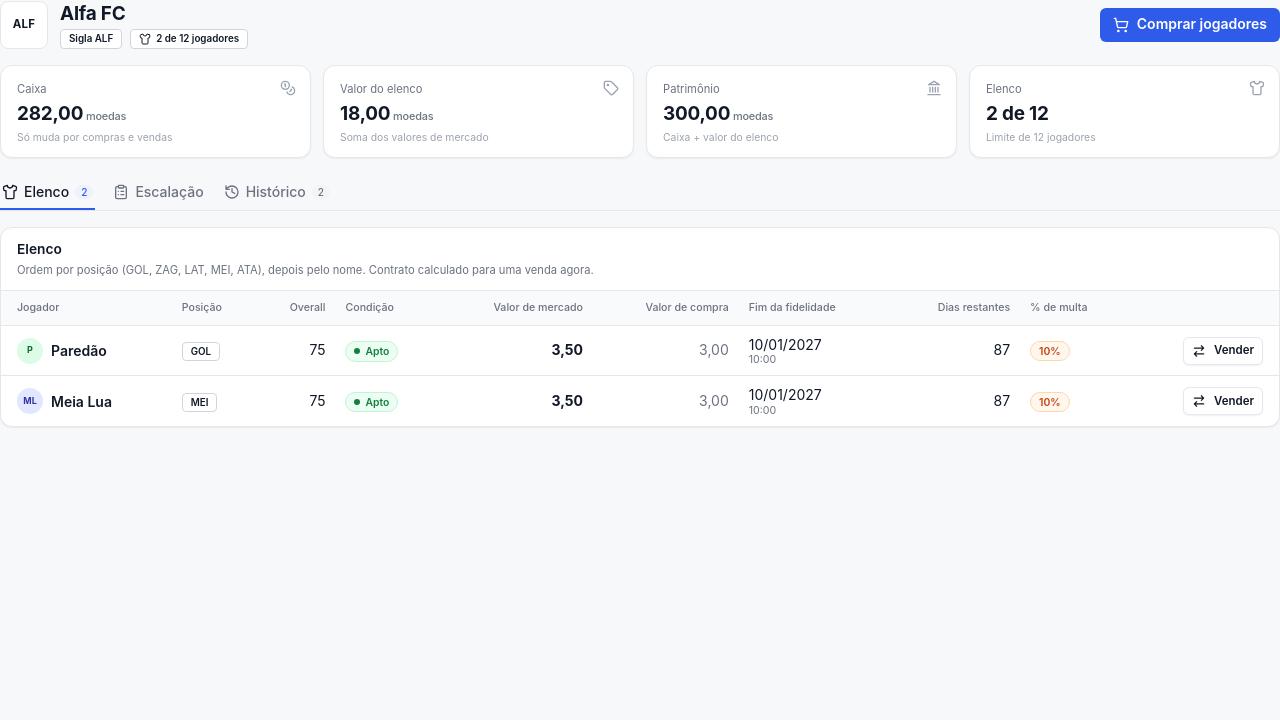
Test case: ClubPage squad › warns when the player is a starter and shows a sale without penalty as ENCERRADO
The width and height of the screenshot is (1280, 720).
Step 1. Click the button with aria-label "Vender Meia Lua" → (1223, 401), box [1183,387,1263,415]
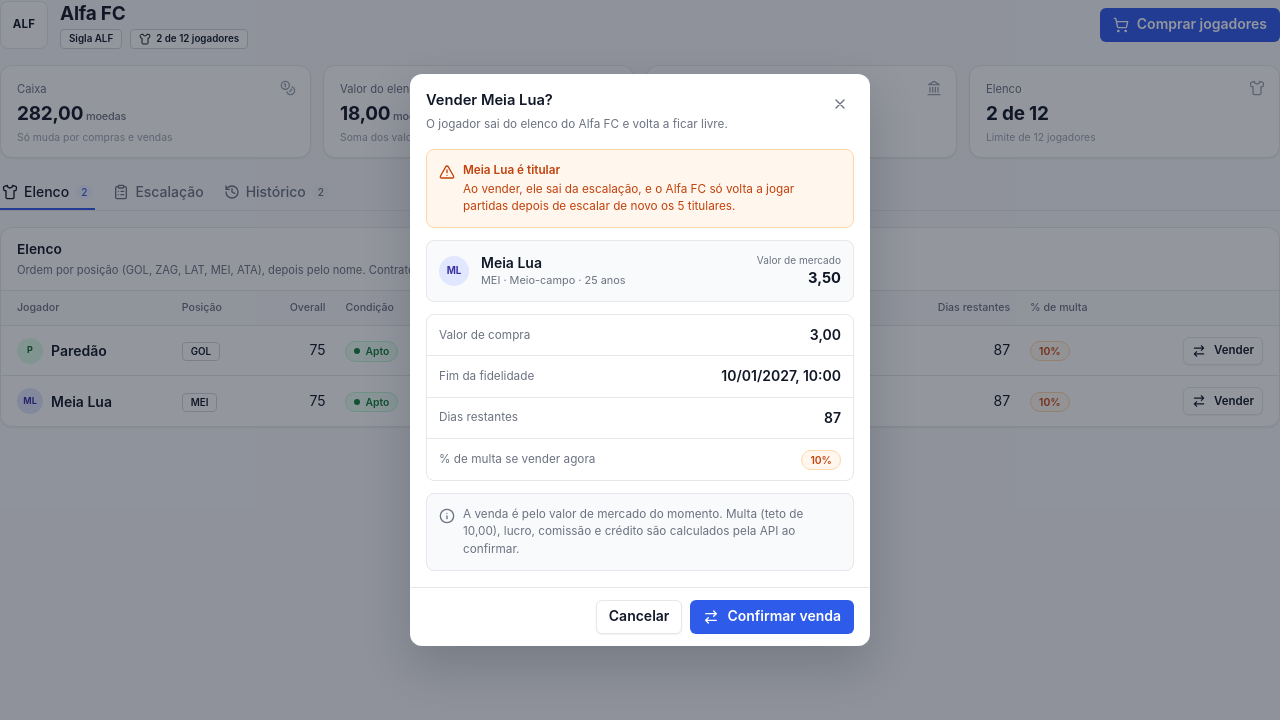
Step 2. Click the button "Confirmar venda" → (772, 617), box [690,600,854,634]
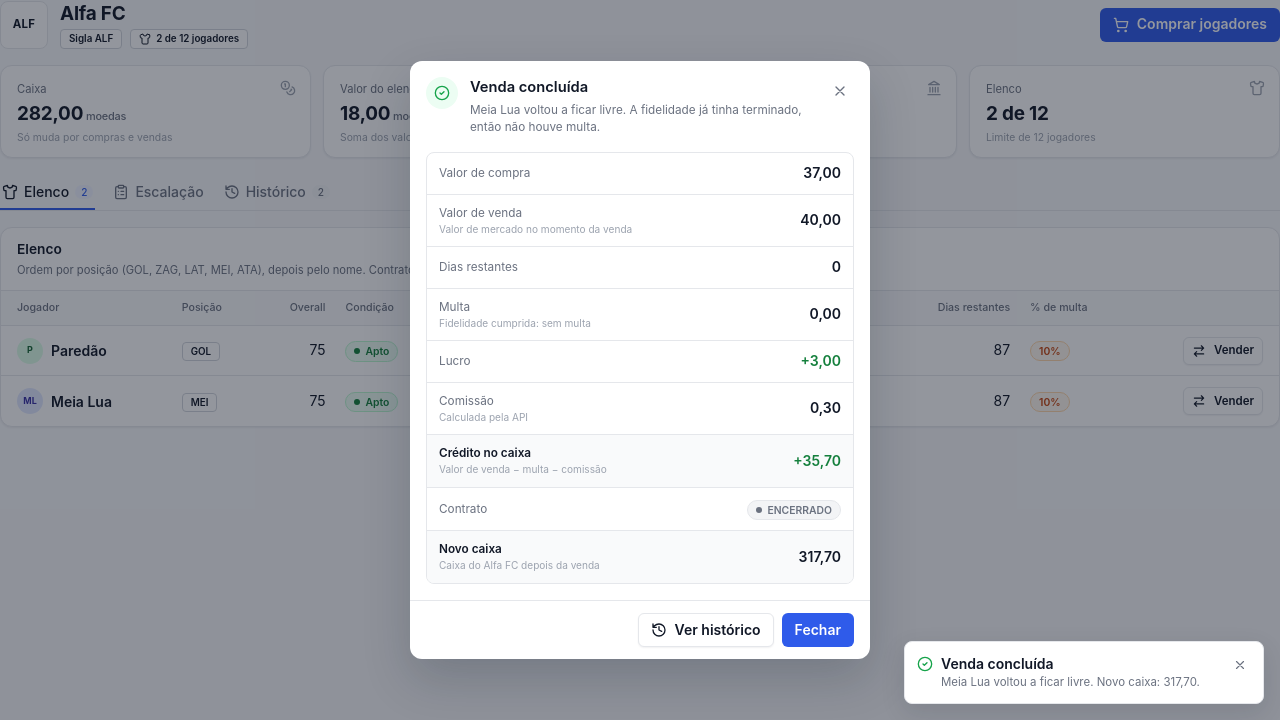
Expected: the element showing "ENCERRADO" is shown, [748,500,841,520]
Expected: the text "Fidelidade cumprida: sem multa" is shown, [439,316,591,330]
